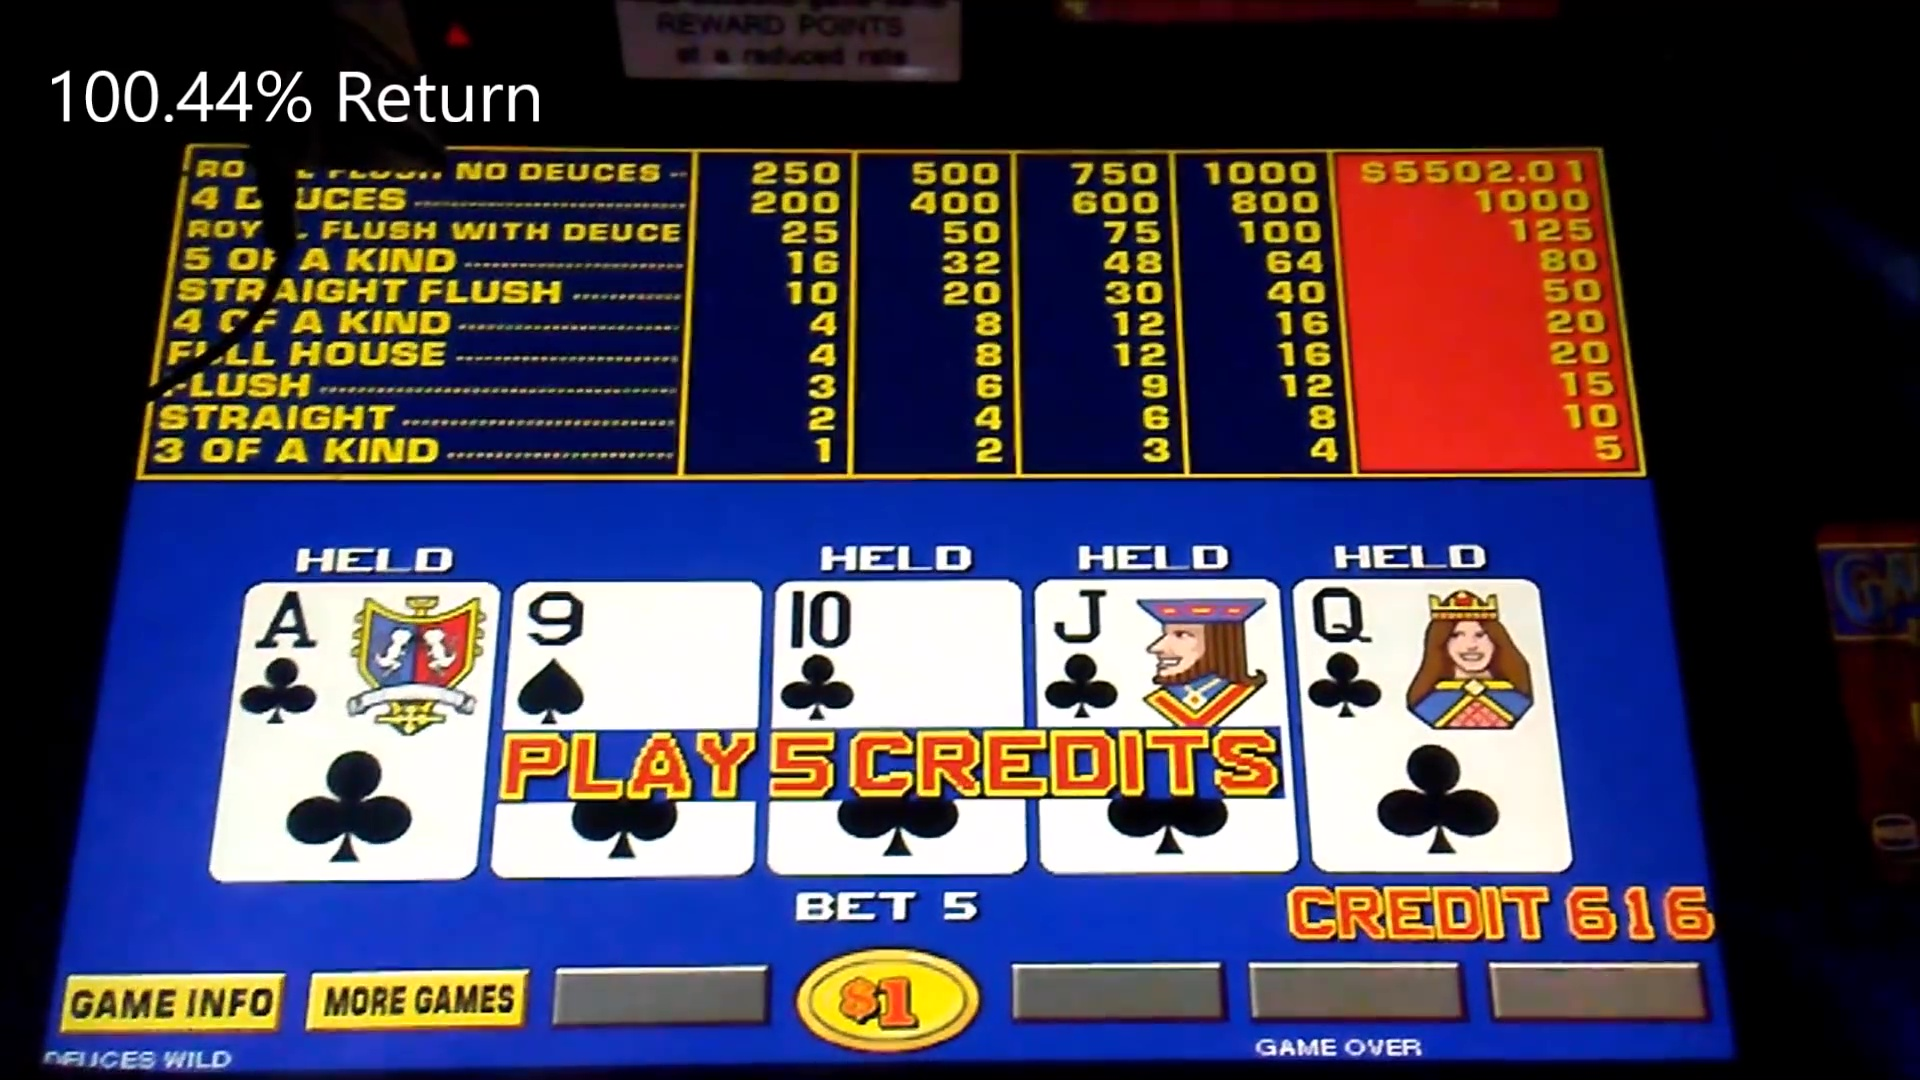CA: (239, 582, 502, 735)
CJ: (1040, 582, 1276, 724)
CQ: (1300, 582, 1536, 720)
CT: (774, 582, 1021, 720)
S9: (516, 582, 764, 727)
